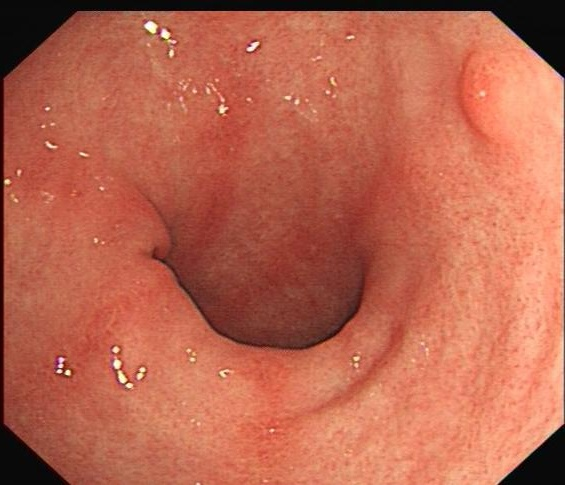Polyp: (458, 50, 527, 141)
